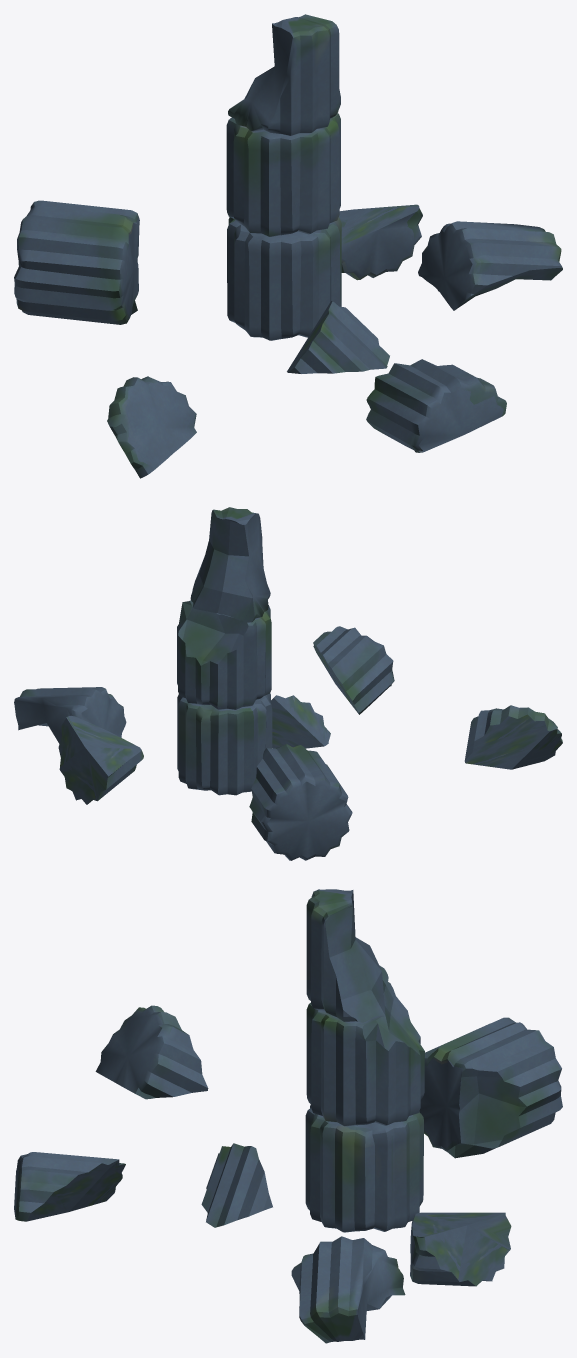
Rendered from wall_smash.obj.
3 views of the same model, one above another, from view 1: azimuth 30°, elevation 25°; view 2: azimuth 150°, elevation 25°; view 3: azimuth 270°, elevation 25° (orthographic). The views are drawn at different scales.
Parts seen in each view (by area): view 1: Pillar9_Material.001_0; view 2: Pillar9_Material.001_0; view 3: Pillar9_Material.001_0.
Part boxes in pixels (x1,y1,x2,y2): Pillar9_Material.001_0: [14, 14, 562, 478]; Pillar9_Material.001_0: [14, 507, 562, 860]; Pillar9_Material.001_0: [14, 889, 562, 1343].
Size of the model in its own units: 2.8 by 1.55 by 2.38.
